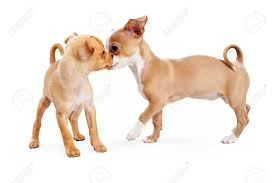chihuahua: (106, 14, 253, 145), (26, 32, 116, 158)
